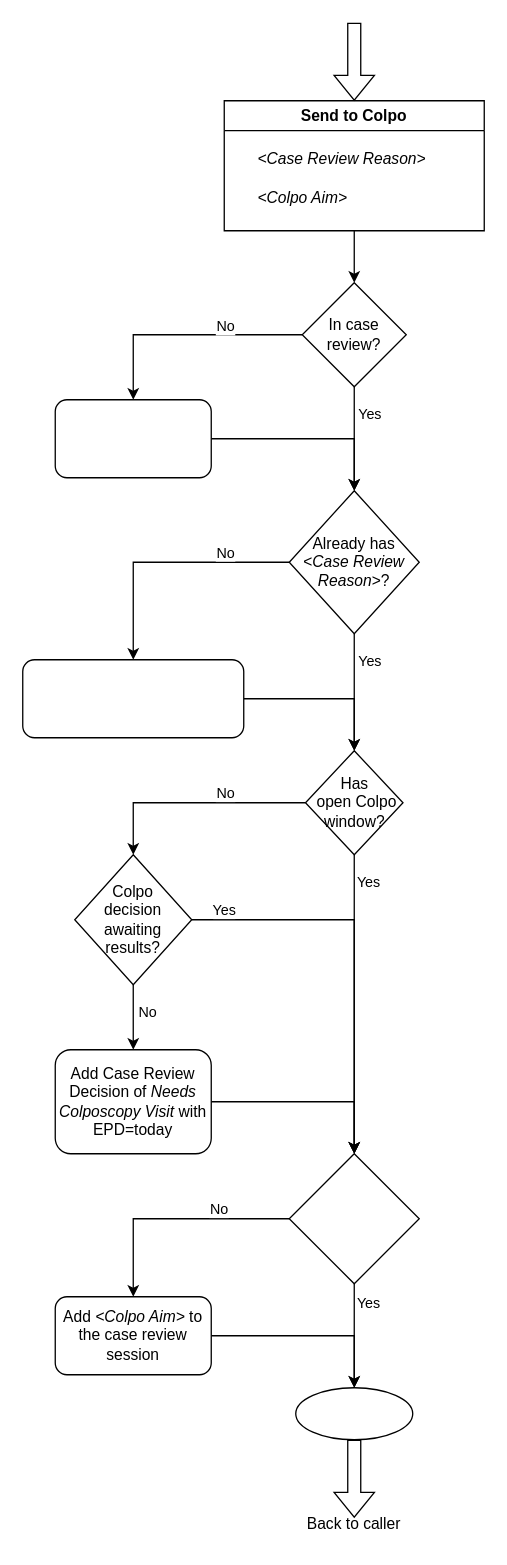
Image size: 507x1565. Some labels were removed from this diagram. The centre of each missing label's shape, as x and y in pixels:
Add <Case Review Reason> to case review session: (132,698)
Add participant to case review: (132,438)
Already has <Colpo Aim> ?: (353,1218)
Done: (353,1413)
